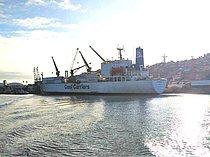Ship: (32, 45, 170, 98)
